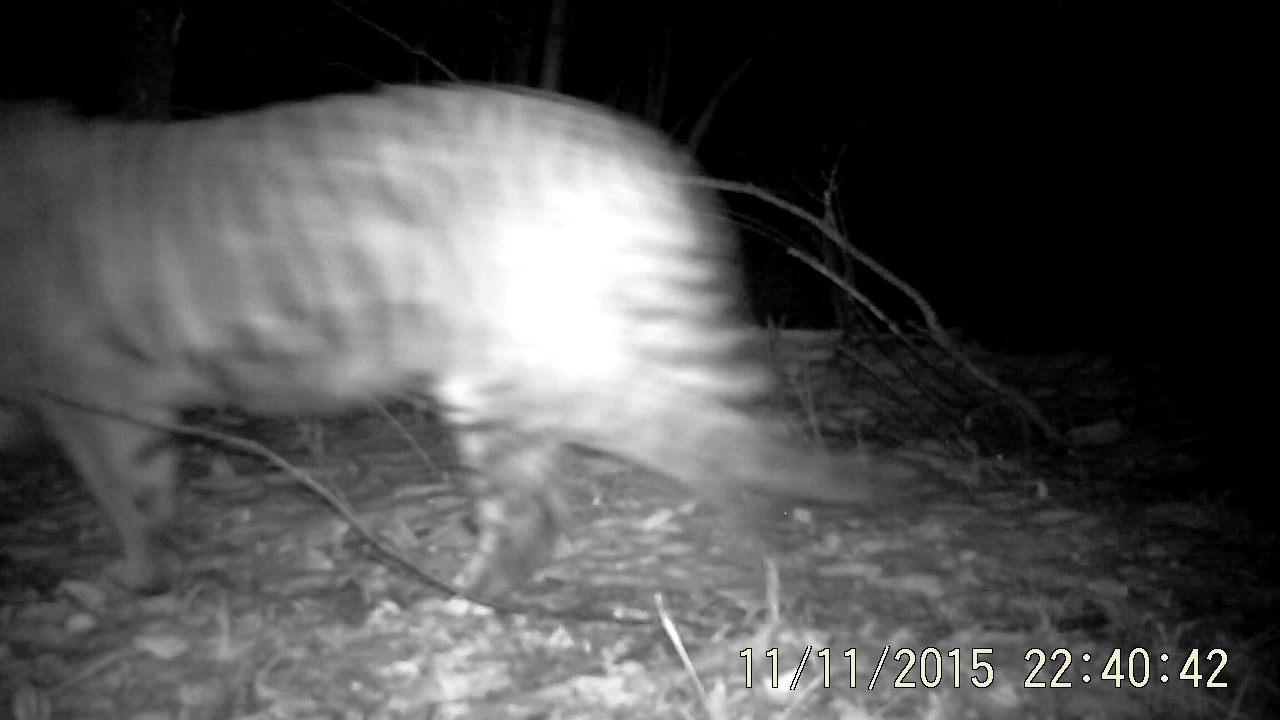Tiger: (4, 10, 948, 635)
